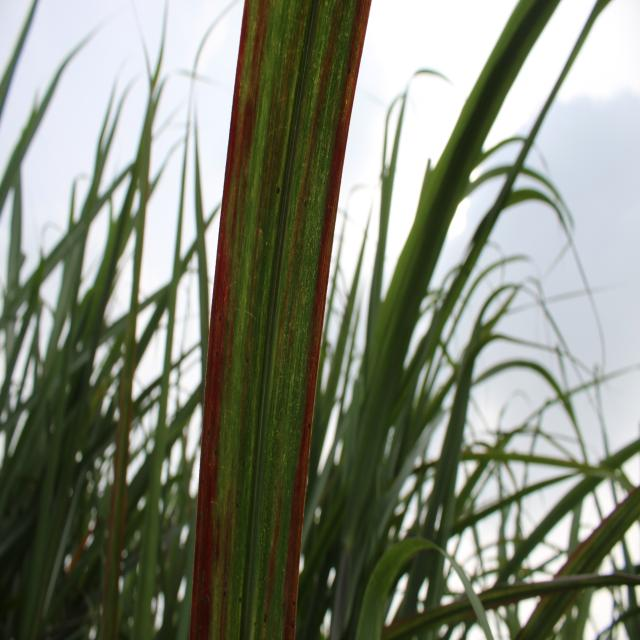Sugarcane: (191, 0, 369, 640)
